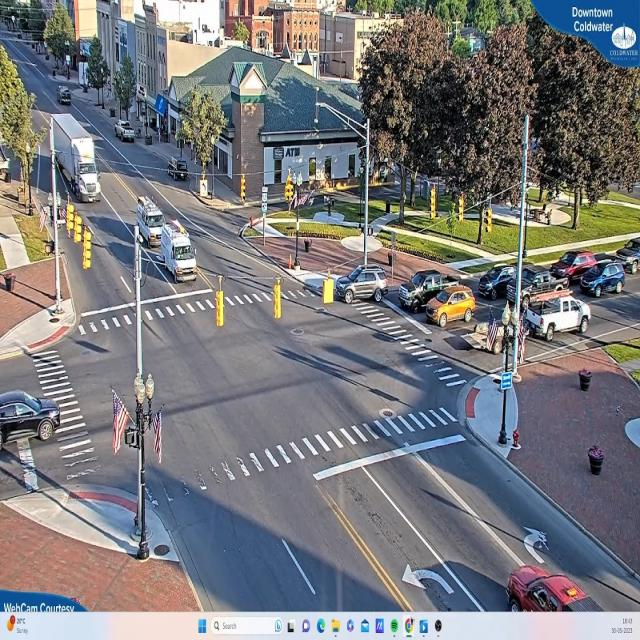car: (406, 560, 514, 613), (508, 566, 599, 613), (520, 295, 592, 341), (0, 392, 60, 444), (479, 268, 549, 304), (161, 222, 199, 280), (427, 288, 477, 328), (340, 266, 390, 302), (580, 263, 628, 298), (550, 252, 598, 278), (525, 530, 552, 556), (117, 122, 137, 144), (60, 91, 72, 106)
truck: (54, 118, 104, 206)
